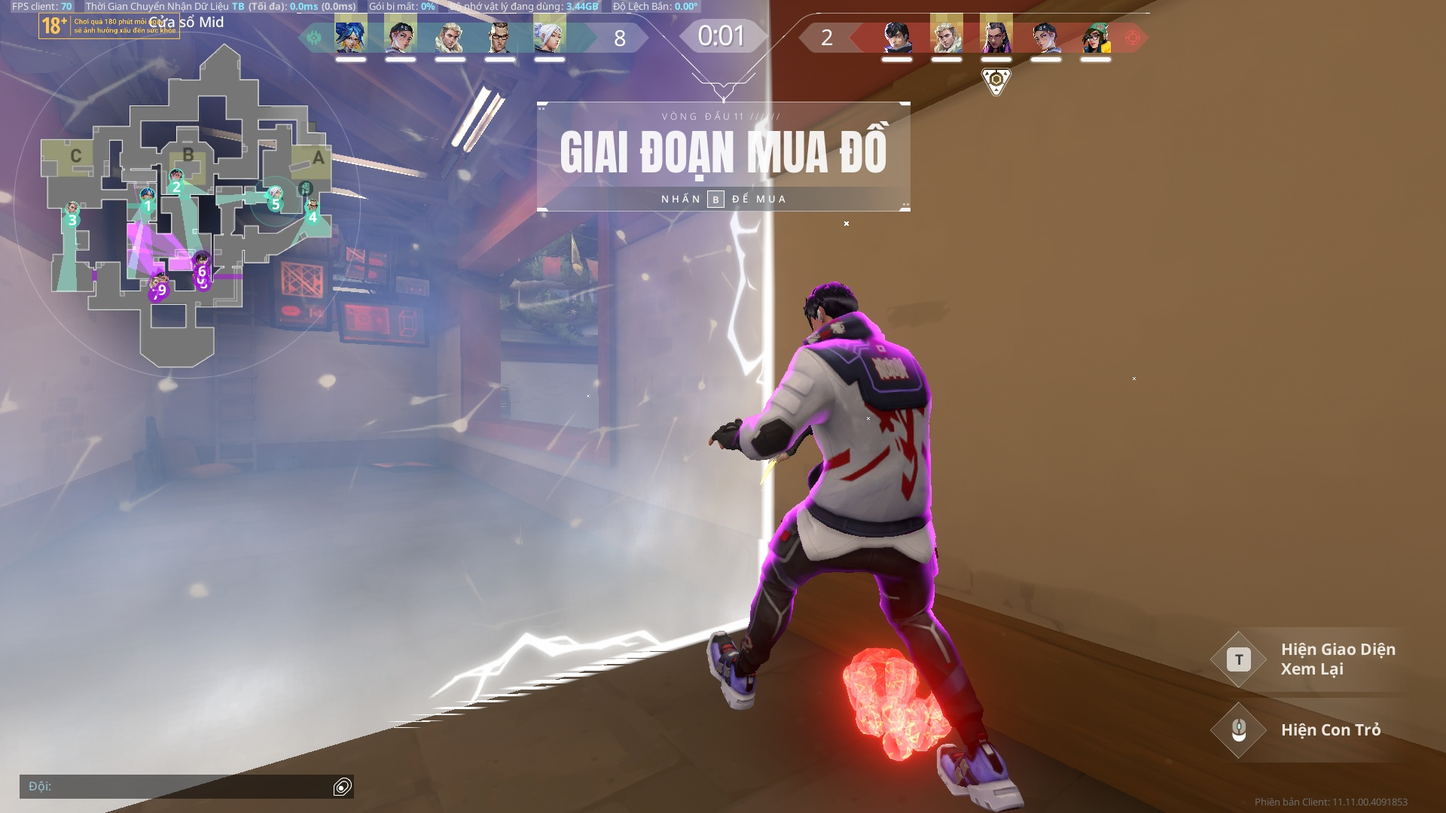body: (796, 334, 944, 489)
head: (801, 281, 870, 343)
